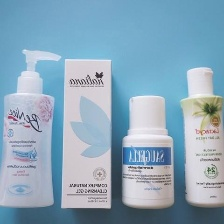book: (58, 55, 117, 211)
cleaning_solution: (0, 47, 65, 210), (177, 64, 224, 210), (119, 93, 176, 211)
